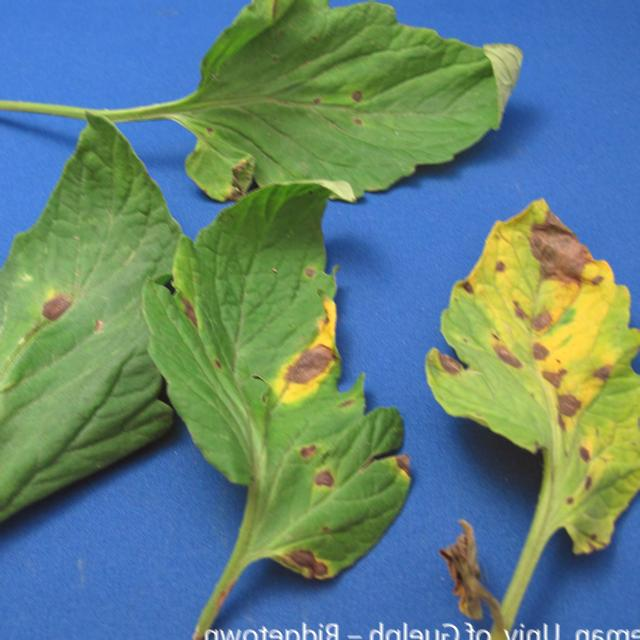Tomato Early blight leaf: (153, 179, 414, 601), (0, 110, 179, 629), (150, 0, 574, 214), (433, 188, 640, 586)
